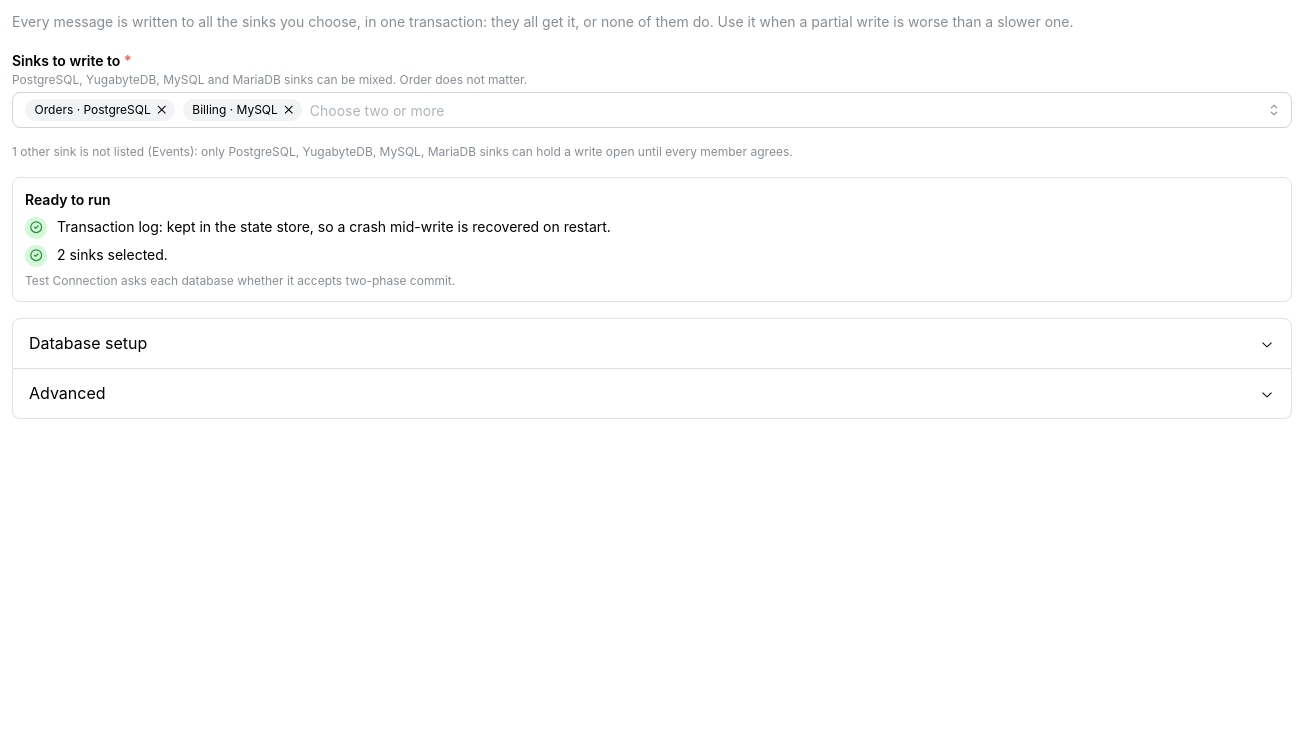
Test: the transactional group form keeps the rare settings out of the way › folds the prepared-age setting under Advanced
Check: the text "2 sinks selected." is shown, box [57, 246, 168, 263]
Check: the field labelled "give up on a stuck transaction after" is not shown
What coordinates should you click on to do the following:
click the button "Advanced"
I would click on:
 (67, 393)
Its box is [13, 369, 1291, 418].
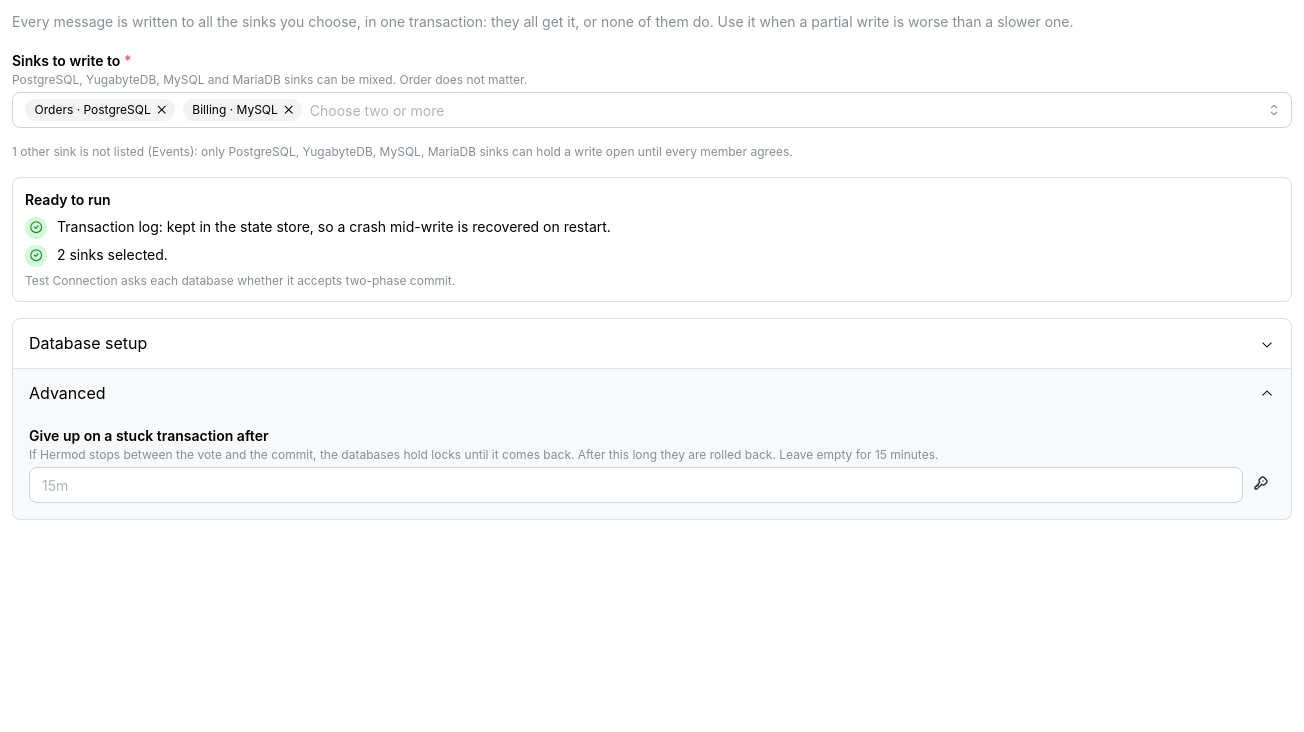
Check: the field labelled "Give up on a stuck transaction after" is shown, box [29, 467, 1243, 503]
